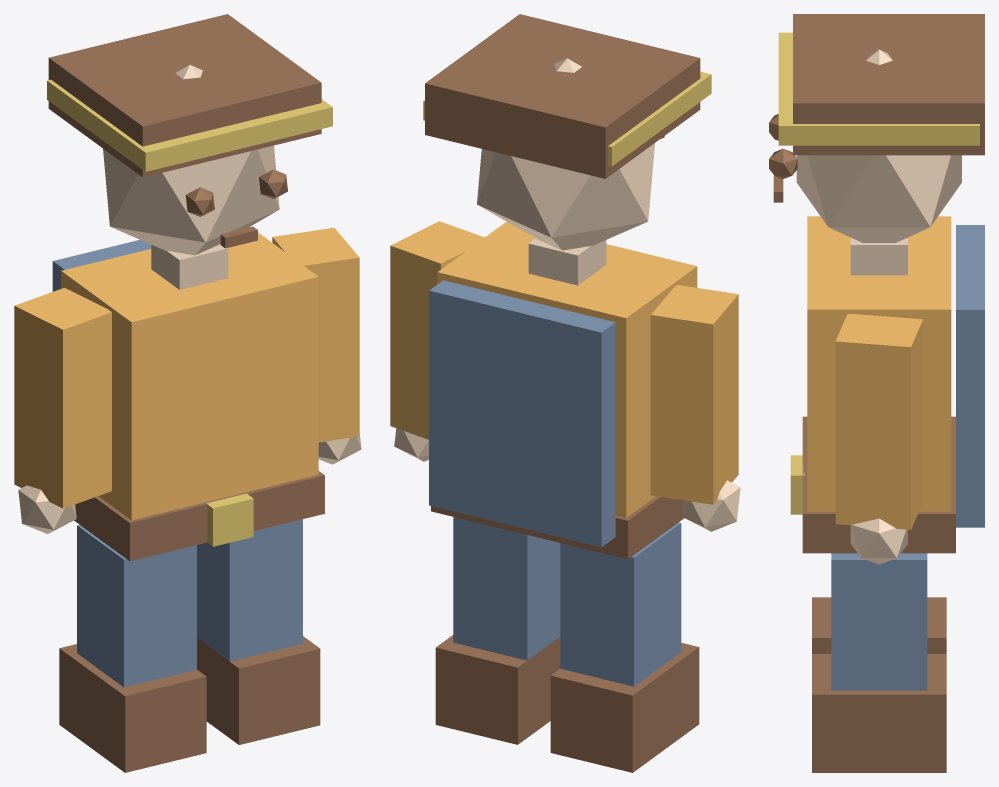
File: player.glb
3 renders of one model, left to right at view 1: azimuth 30°, elevation 25°; view 2: azimuth 150°, elevation 25°; view 3: azimuth 270°, elevation 25°, orthographic. The views are drawn at different scales.
Visible parts, largest first — view 1: tunic, hair, arm_l, leg_l, boot_l, leg_r, head, boot_r, arm_r, belt, circlet, neck (+6 smaller); view 2: cape, hair, tunic, arm_l, leg_l, leg_r, boot_l, head, boot_r, arm_r, belt, neck (+3 smaller); view 3: hair, tunic, arm_r, leg_r, boot_r, head, cape, circlet, belt, boot_l, neck, hand_r (+2 smaller).
Boxes of the visible parts, x1,y1,x2,y2 form: tunic: [61, 226, 318, 520]; hair: [48, 14, 321, 177]; arm_l: [14, 288, 111, 508]; leg_l: [77, 524, 196, 687]; boot_l: [59, 644, 206, 772]; leg_r: [197, 519, 302, 661]; head: [103, 65, 279, 255]; boot_r: [197, 636, 320, 744]; arm_r: [272, 227, 359, 442]; belt: [74, 471, 324, 561]; circlet: [47, 79, 332, 171]; neck: [151, 244, 228, 289]; cape: [429, 280, 615, 547]; hair: [425, 14, 700, 178]; tunic: [437, 221, 697, 517]; arm_l: [650, 285, 738, 504]; leg_l: [560, 522, 681, 686]; leg_r: [453, 517, 560, 660]; boot_l: [550, 643, 699, 772]; head: [477, 58, 654, 250]; boot_r: [435, 635, 560, 744]; arm_r: [390, 221, 484, 439]; belt: [431, 496, 683, 559]; neck: [528, 238, 606, 285]; hair: [793, 14, 984, 155]; tunic: [807, 216, 951, 511]; arm_r: [835, 314, 922, 529]; leg_r: [831, 553, 927, 690]; boot_r: [812, 654, 946, 772]; head: [796, 49, 961, 242]; cape: [956, 225, 984, 527]; circlet: [778, 32, 979, 145]; belt: [802, 416, 955, 553]; boot_l: [812, 597, 946, 653]; neck: [850, 237, 907, 275]; hand_r: [850, 518, 907, 564].
Size of the model in its own units: 0.8252 by 1.55 by 0.4498.
